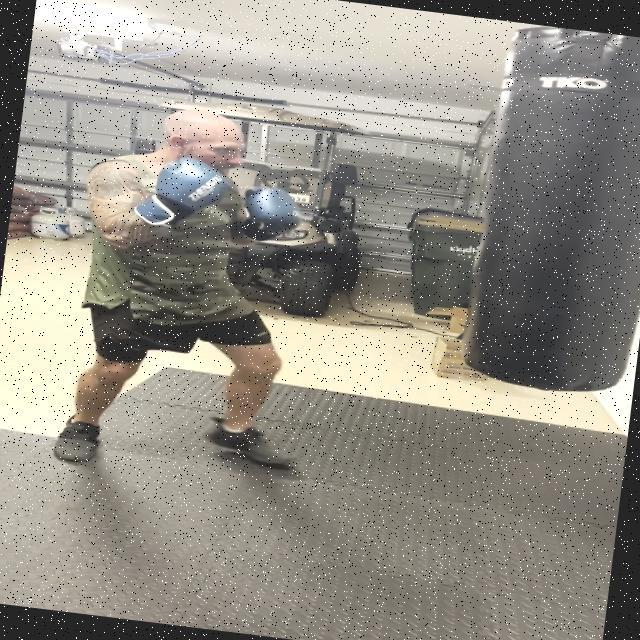bag: (458, 20, 640, 403)
no punch: (70, 85, 317, 272)
